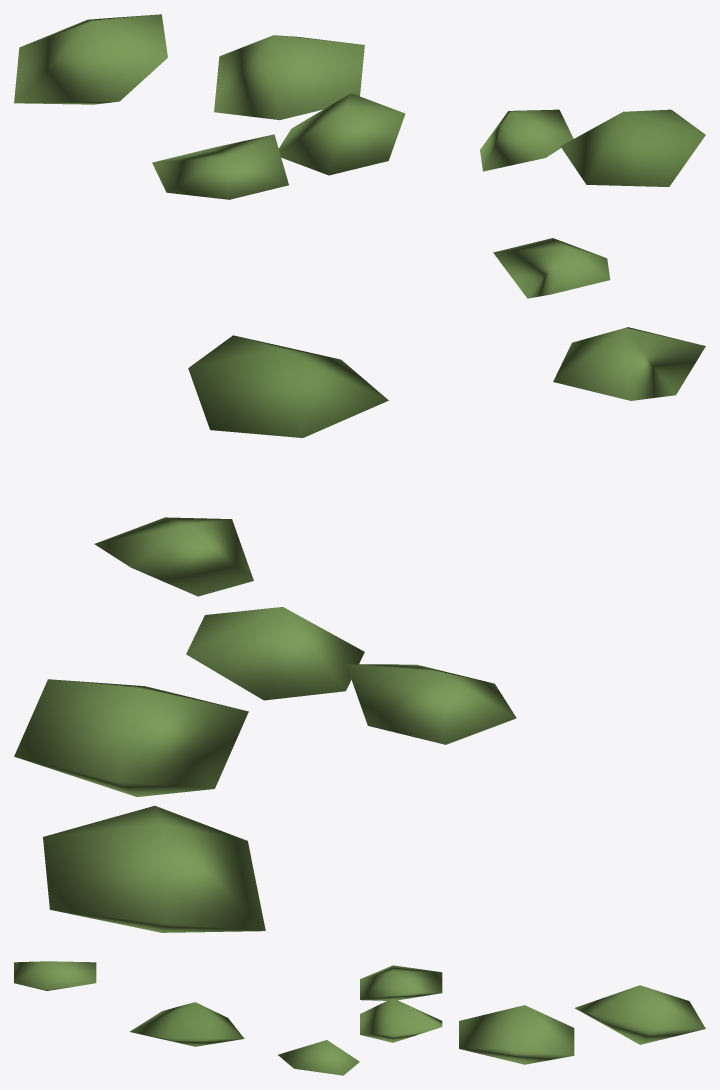
Rendered from canopy-2--2--20.glb.
3 views of the same model, one above another, from view 1: azimuth 30°, elevation 25°; view 2: azimuth 150°, elevation 25°; view 3: azimuth 270°, elevation 25° (orthographic). The views are drawn at different scales.
Bounding box in the file's own units: 47.5 × 20 × 105.
1 material, 1 textured.
